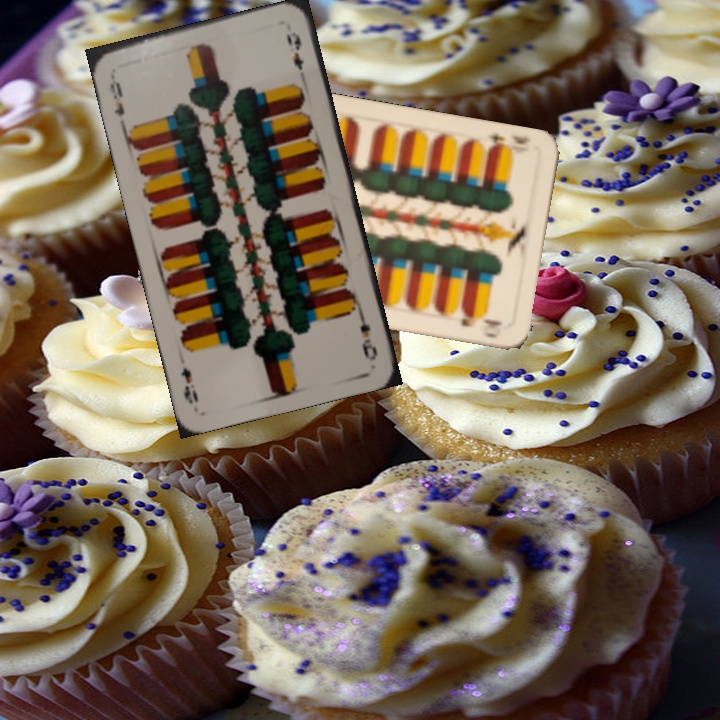E10: (484, 130, 534, 159)
E9: (354, 306, 380, 363), (104, 76, 127, 118)
